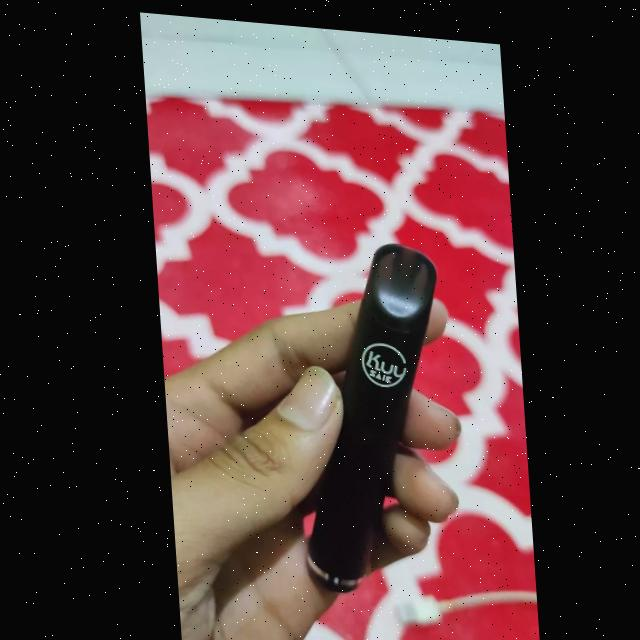vape: (280, 231, 453, 596)
